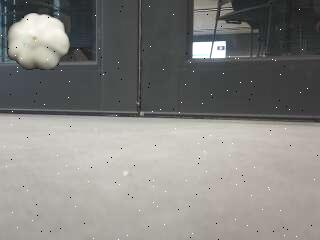Garlic: (6, 12, 71, 70)
